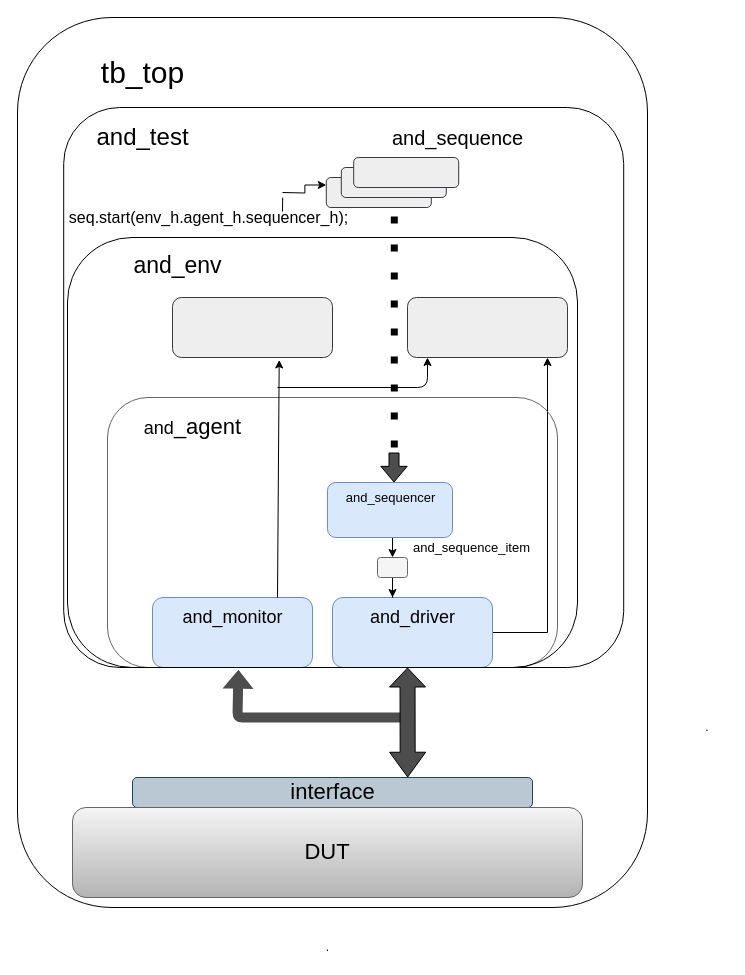
Some shapes in this 745 by 975 pixel diagram are drawn without their labels. Here are the shapes that lost their labels. From the top down, the box of each, then its label:
(172, 296, 332, 358): and_coverage
(406, 296, 568, 358): and_scoreboard
